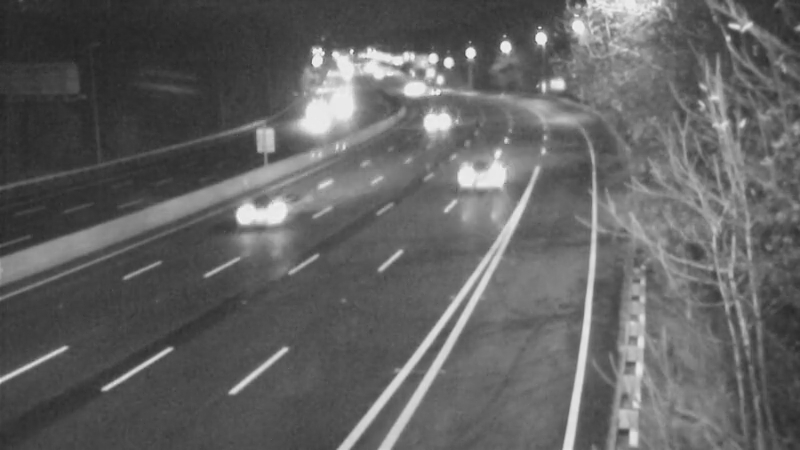vehicle: (439, 127, 519, 207), (231, 169, 311, 249), (384, 68, 434, 118), (415, 64, 465, 114), (409, 97, 459, 147), (293, 92, 343, 142), (319, 83, 369, 133)
